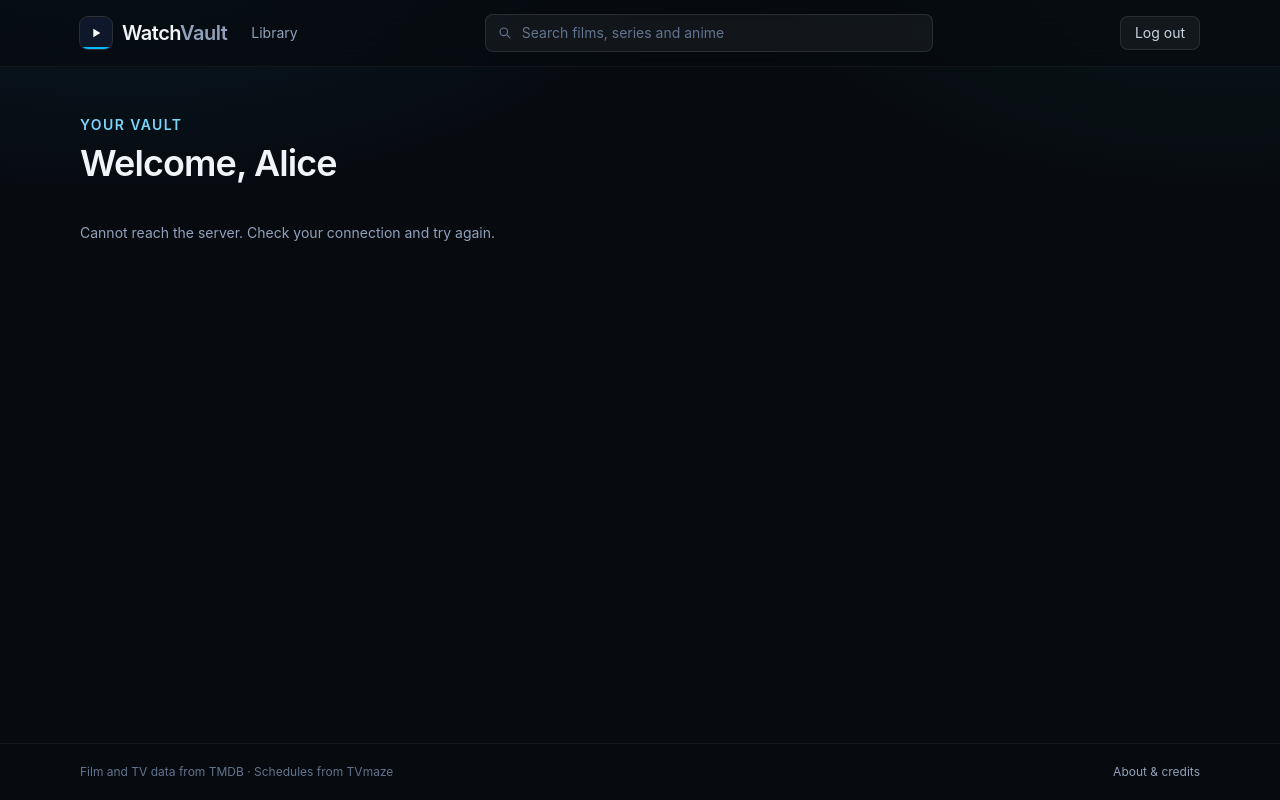
Test: protected pages › logs out and returns to the login page
The width and height of the screenshot is (1280, 800).
Click the button "Log out" at (1160, 33), box [1120, 16, 1200, 50]
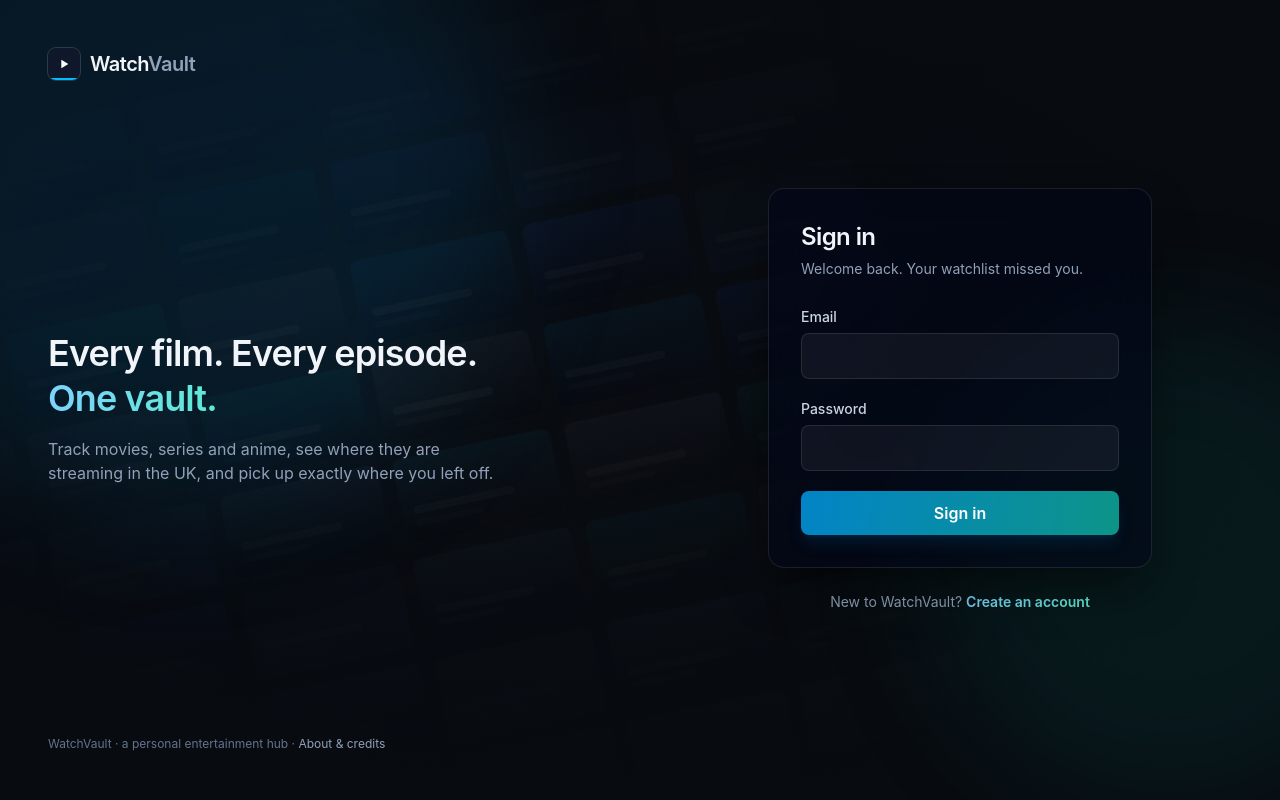
Expected: the heading "Sign in" is shown, [801, 222, 875, 251]
